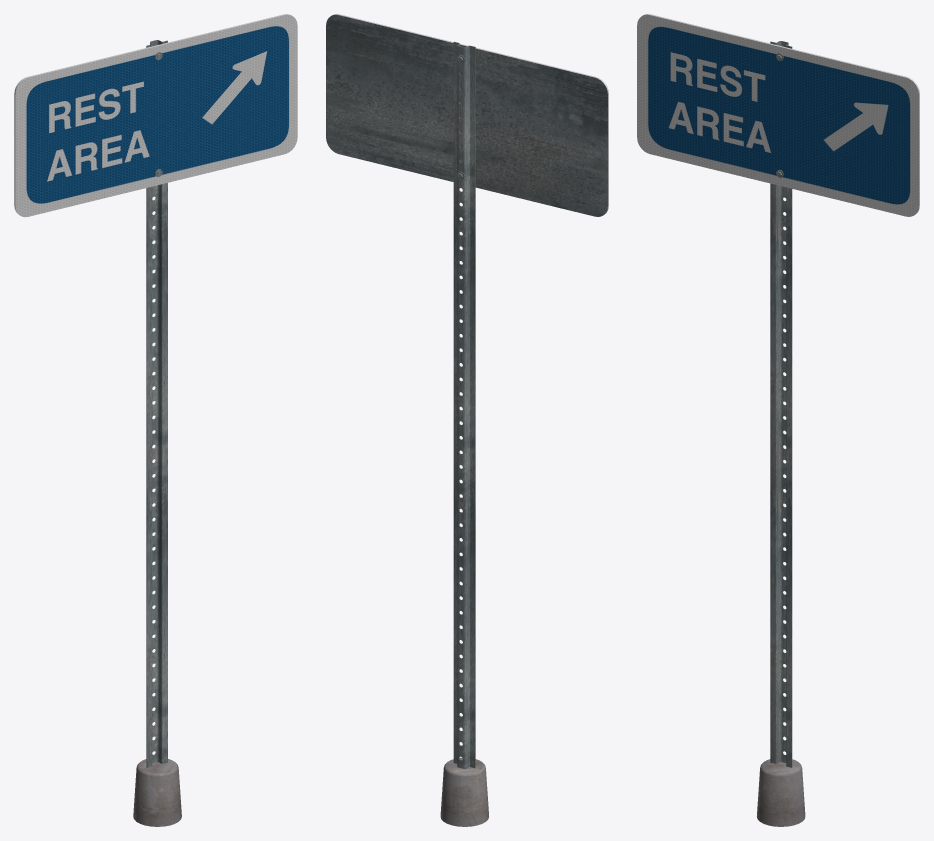
Rendered from restarea_nsoc.obj.
The picture shows the model from 3 angles, left to right: view 1: azimuth 30°, elevation 25°; view 2: azimuth 150°, elevation 25°; view 3: azimuth 330°, elevation 25°; orthographic projection.
Visible parts, largest first — view 1: sign_rest_area; view 2: sign_rest_area; view 3: sign_rest_area.
Boxes of the visible parts, x1,y1,x2,y2 form: sign_rest_area: (14, 14, 297, 826); sign_rest_area: (326, 14, 608, 826); sign_rest_area: (637, 14, 919, 826).
Bounding box in the file's own units: 39.06 × 102 × 5.84.
Materials: 3 (3 with a texture image).
